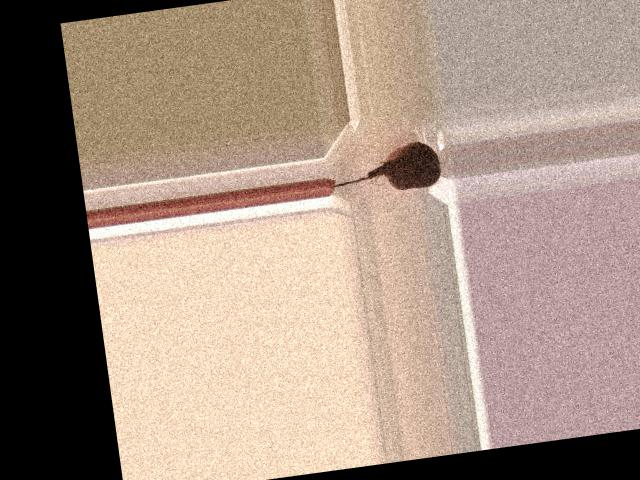beet: (327, 138, 442, 199)
